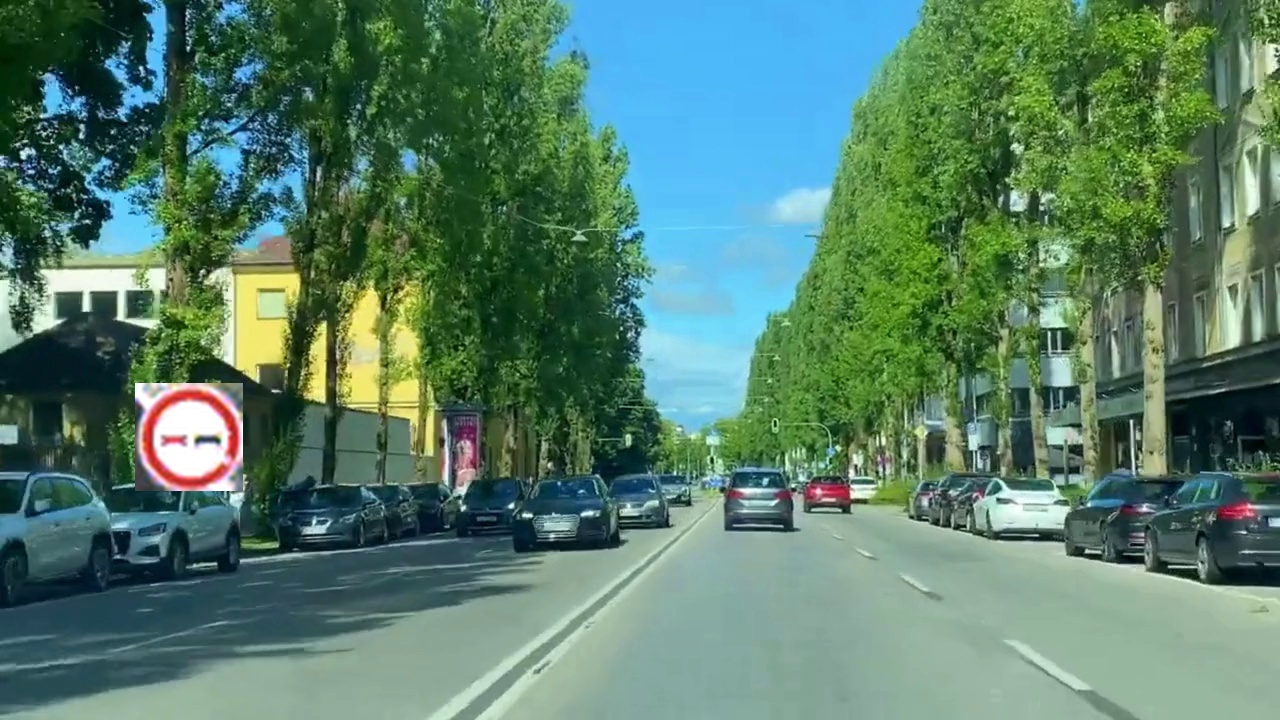No passing: (135, 383, 243, 491)
